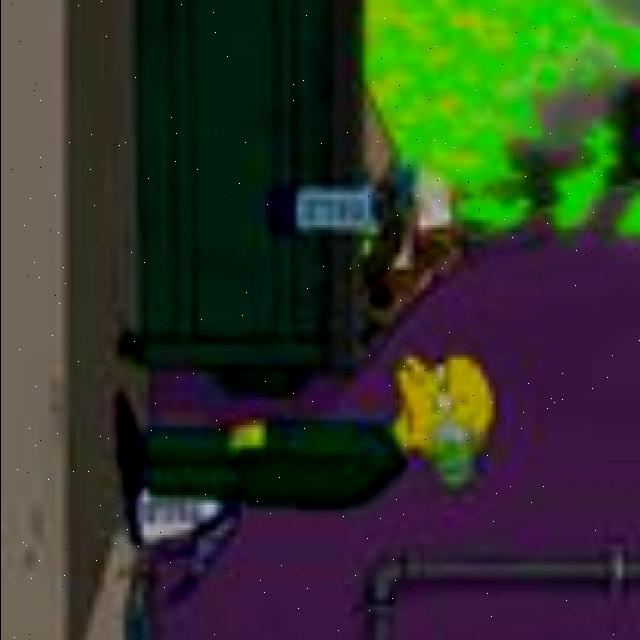Charles Montgomery Burns: (389, 348, 497, 492)
